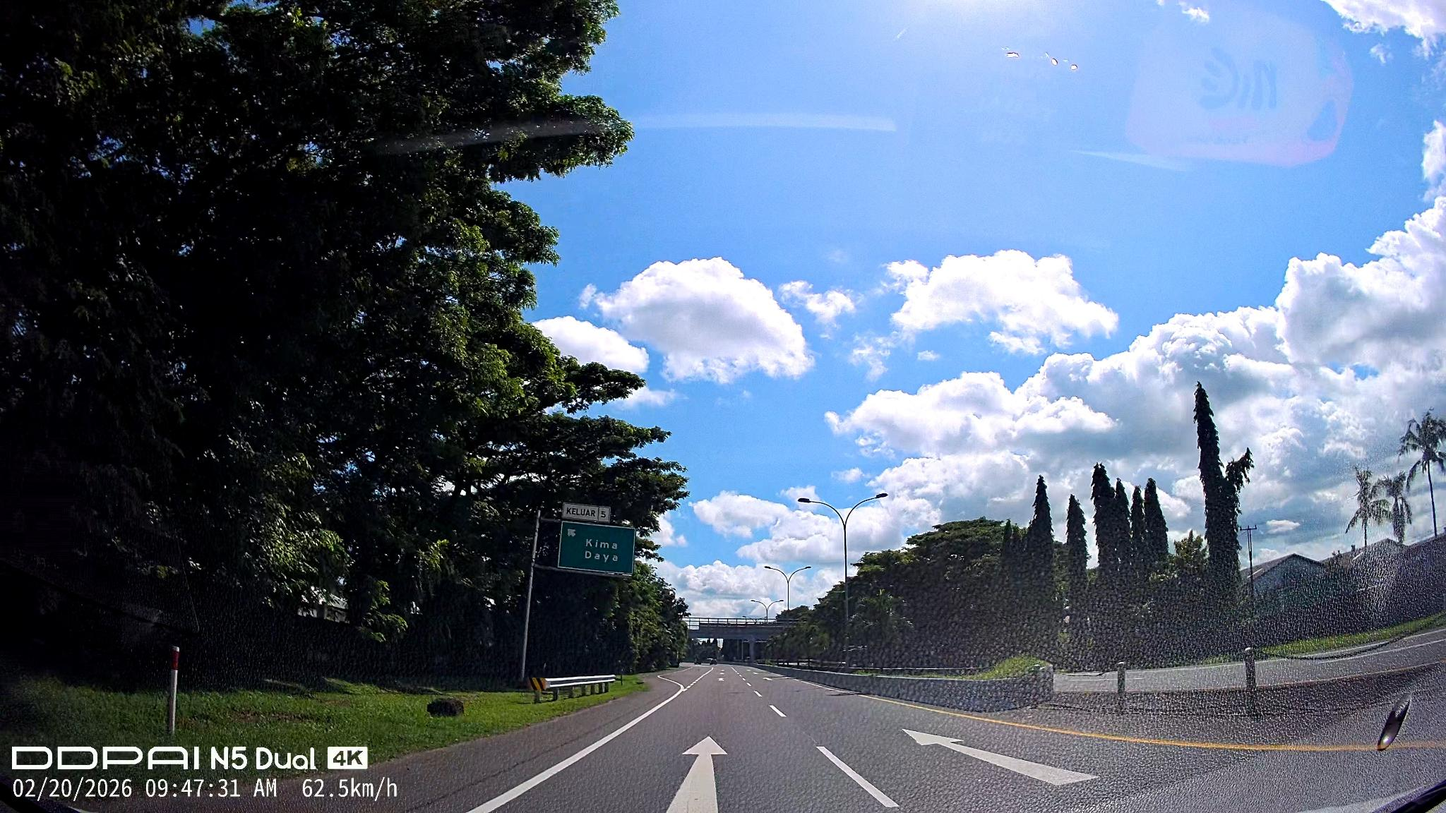rambu_teks: (556, 520, 637, 575)
